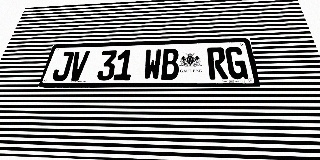1: (113, 50, 134, 80)
3: (96, 50, 118, 81)
B: (161, 48, 179, 80)
G: (225, 47, 249, 79)
J: (51, 51, 75, 81)
R: (207, 47, 228, 79)
V: (67, 51, 90, 81)
W: (143, 49, 162, 80)
